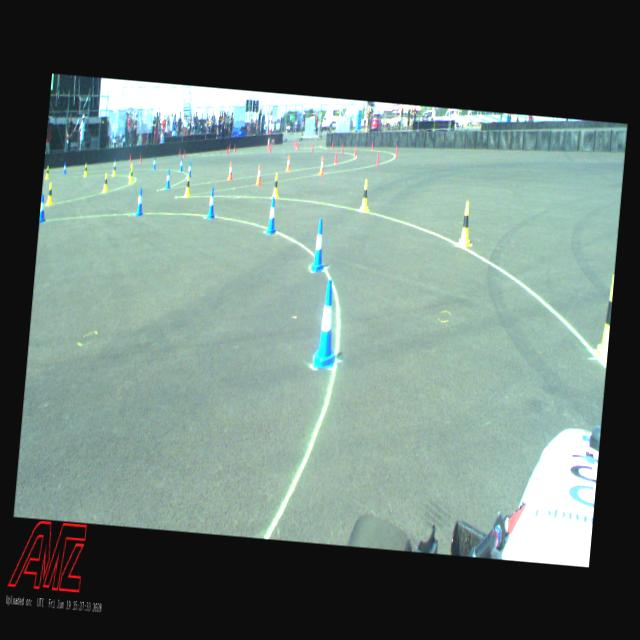blue_cone: (312, 278, 340, 368), (310, 218, 328, 272), (265, 196, 278, 233), (206, 186, 216, 218), (135, 187, 144, 216), (38, 194, 46, 222), (164, 168, 170, 188), (188, 161, 192, 177), (179, 157, 183, 170), (152, 156, 156, 168), (62, 162, 66, 174), (112, 159, 116, 171)
orange_cone: (255, 163, 262, 184), (227, 161, 233, 180), (318, 157, 324, 175), (286, 155, 290, 171)
yellow_cone: (596, 272, 614, 364), (459, 201, 475, 246), (360, 180, 370, 210), (272, 172, 280, 197), (46, 182, 54, 204), (184, 174, 191, 196), (102, 173, 108, 192), (128, 166, 134, 182), (44, 165, 50, 178), (82, 163, 88, 176), (112, 163, 116, 176), (129, 162, 132, 178)
